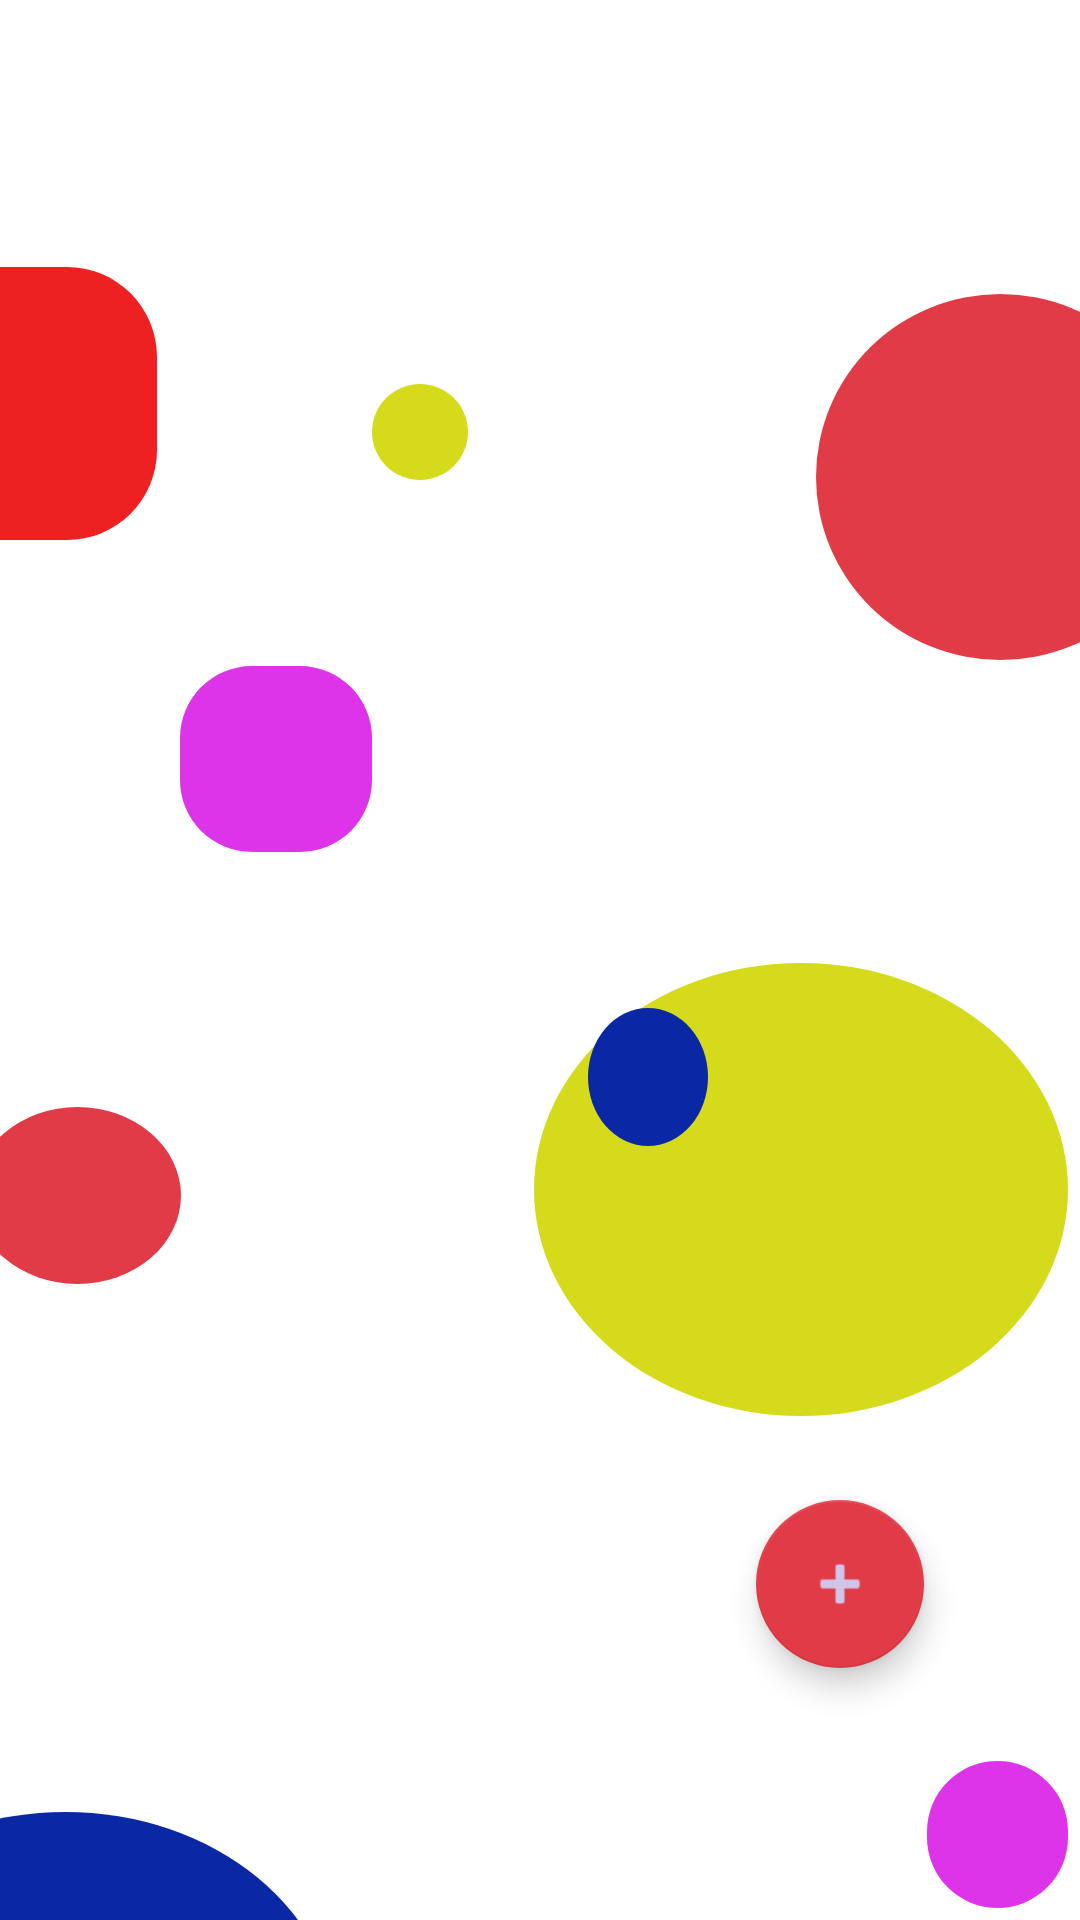

Screen size 1080x1920. Icon name, then its box in pixels as (x1, y1, x2, y2):
add: (756, 1500, 924, 1668)
